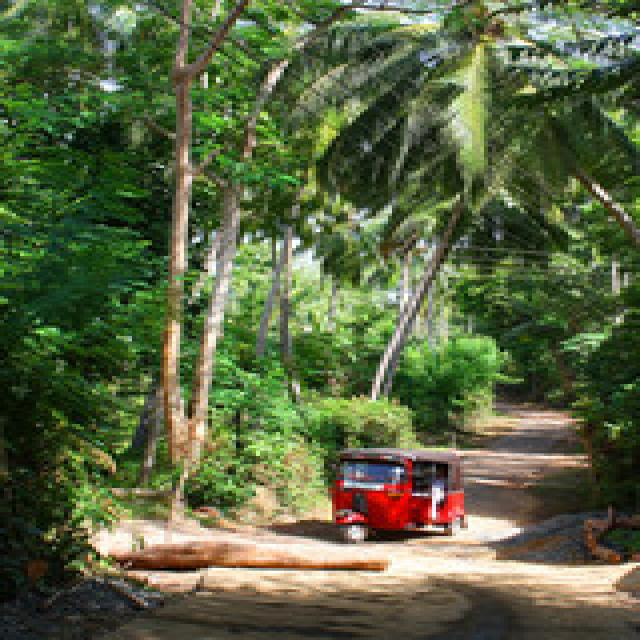three wheeler: (328, 451, 464, 544)
